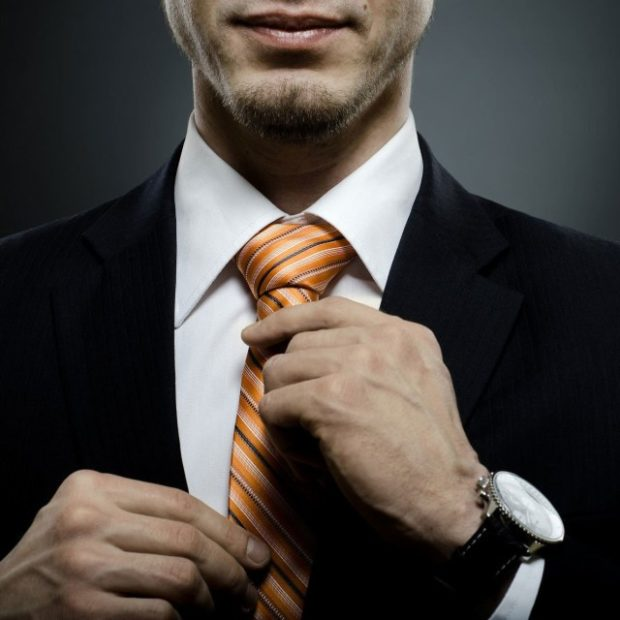tie: (215, 210, 369, 610)
